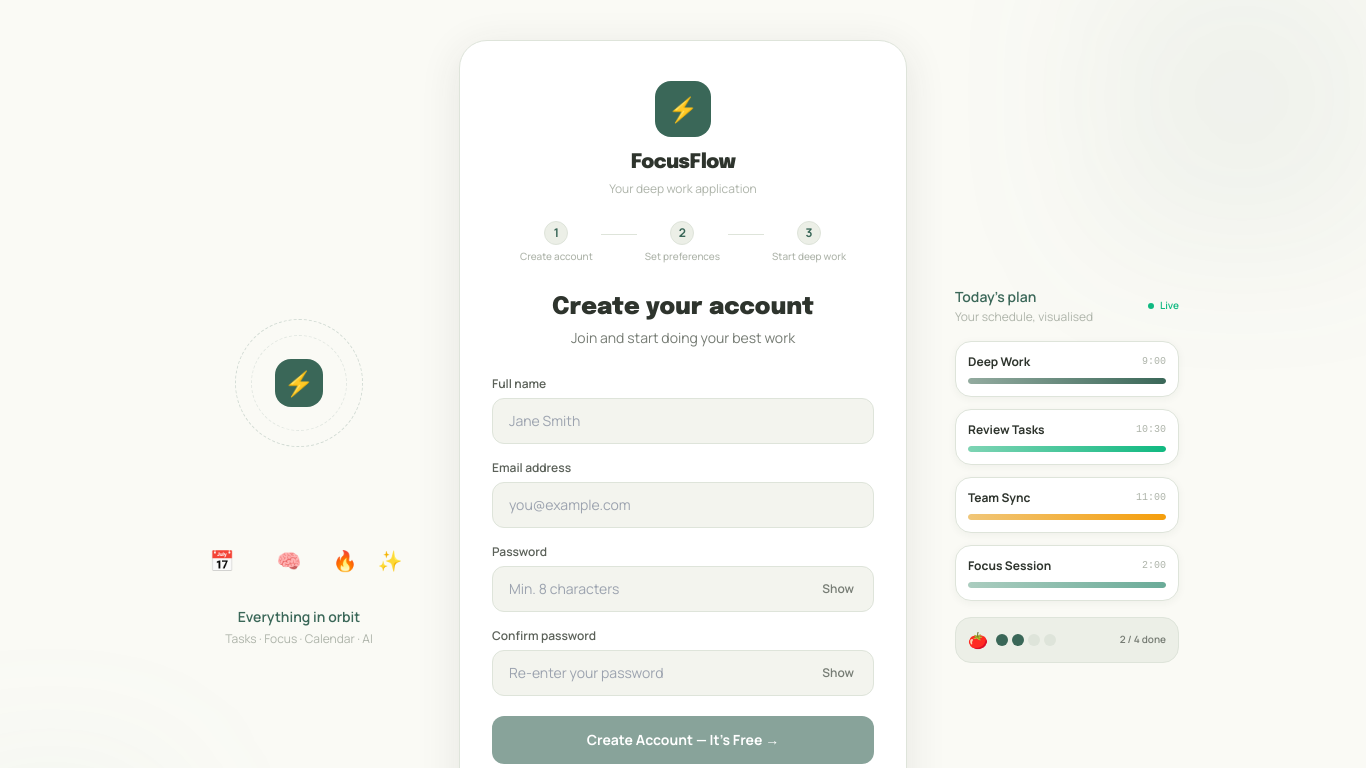
RegisterPage – PasswordStrength rule indicators › uppercase rule shows ✓ when password has an uppercase letter
The image size is (1366, 768).
In the password field labelled "Password": [683, 589] box [492,566,874,612], type "abcdefgH"
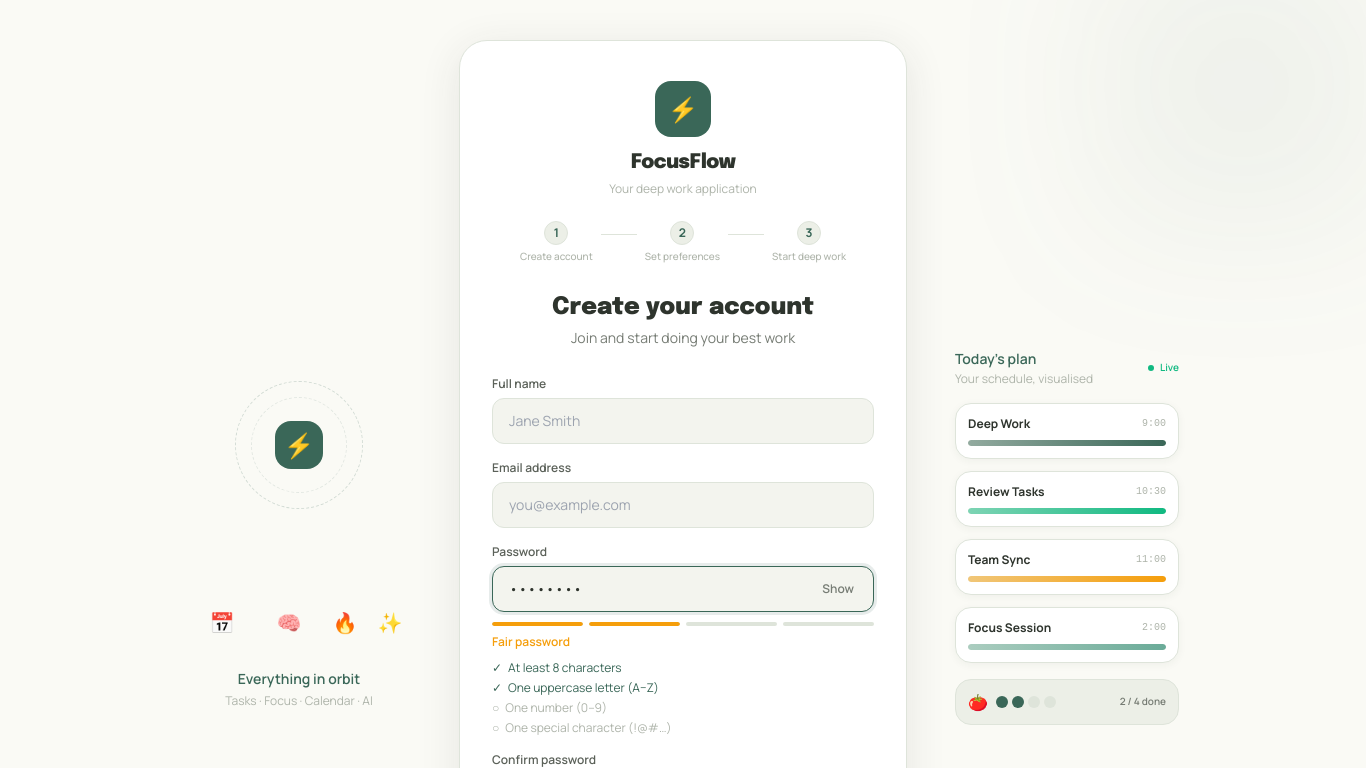
Expected: the text "✓" next to "One uppercase letter (A–Z)" is shown, [492,679,502,696]
